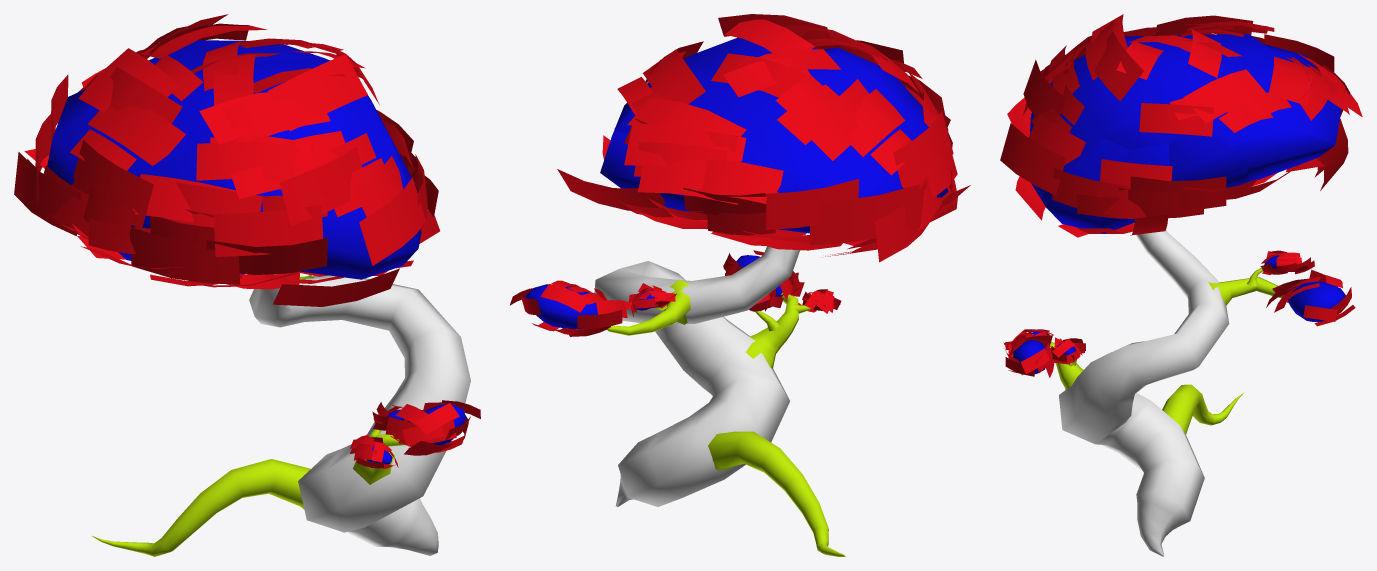
File: Arbre_Low_City_4.fbx
The picture shows the model from 3 angles, left to right: view 1: azimuth 30°, elevation 25°; view 2: azimuth 150°, elevation 25°; view 3: azimuth 270°, elevation 25°; orthographic projection. The views are drawn at different scales.
Visible parts, largest first — view 1: BezierCurve.024, Sphere.013, BezierCurve.028, Plane.003, Plane.130, Plane.128, Plane.124, Plane.150, Plane.134, Plane.199, Plane.174, Plane.137 (+31 smaller); view 2: BezierCurve.024, Sphere.013, BezierCurve.028, Plane.004, Plane.212, Plane.177, Plane.196, Plane.171, Plane.215, Plane.174, Plane.179, Plane.199 (+25 smaller); view 3: Sphere.013, BezierCurve.024, Plane.004, Plane.137, Plane.003, Plane.115, Plane.139, Plane.145, Plane.210, Plane.150, BezierCurve.028, Plane.215 (+26 smaller).
Boxes of the visible parts, box(x1,y1,x2,y2) form: BezierCurve.024: box(249, 274, 470, 555); Sphere.013: box(47, 40, 421, 279); BezierCurve.028: box(92, 459, 310, 556); Plane.003: box(349, 400, 480, 468); Plane.130: box(129, 227, 240, 284); Plane.128: box(213, 205, 323, 256); Plane.124: box(196, 142, 295, 181); Plane.150: box(268, 54, 367, 131); Plane.134: box(279, 147, 362, 226); Plane.199: box(87, 105, 185, 165); Plane.174: box(72, 140, 153, 229); Plane.137: box(359, 177, 425, 265); BezierCurve.024: box(594, 234, 805, 507); Sphere.013: box(600, 37, 948, 233); BezierCurve.028: box(708, 431, 845, 556); Plane.004: box(509, 280, 676, 336); Plane.212: box(810, 184, 919, 244); Plane.177: box(766, 178, 858, 229); Plane.196: box(701, 159, 783, 203); Plane.171: box(624, 123, 746, 166); Plane.215: box(627, 98, 746, 156); Plane.174: box(893, 111, 953, 188); Plane.179: box(638, 159, 737, 204); Plane.199: box(848, 89, 905, 156); Sphere.013: box(1030, 34, 1341, 233); BezierCurve.024: box(1059, 223, 1229, 556); Plane.004: box(1260, 250, 1355, 326); Plane.137: box(1000, 123, 1066, 195); Plane.003: box(1003, 329, 1085, 377); Plane.115: box(1183, 69, 1265, 123); Plane.139: box(1139, 103, 1214, 136); Plane.145: box(1130, 176, 1226, 210); Plane.210: box(1052, 168, 1128, 217); Plane.150: box(1094, 31, 1143, 101); BezierCurve.028: box(1162, 384, 1243, 434); Plane.215: box(1268, 56, 1312, 105).
Bounding box in the file's own units: 2.98 × 4.17 × 3.04.
